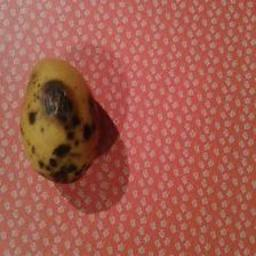Mango Rotten: (19, 48, 107, 196)
